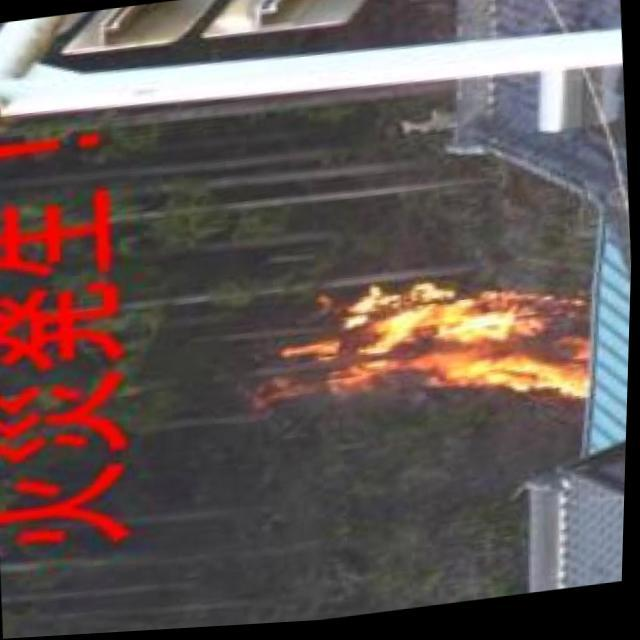fire: (264, 264, 608, 430)
